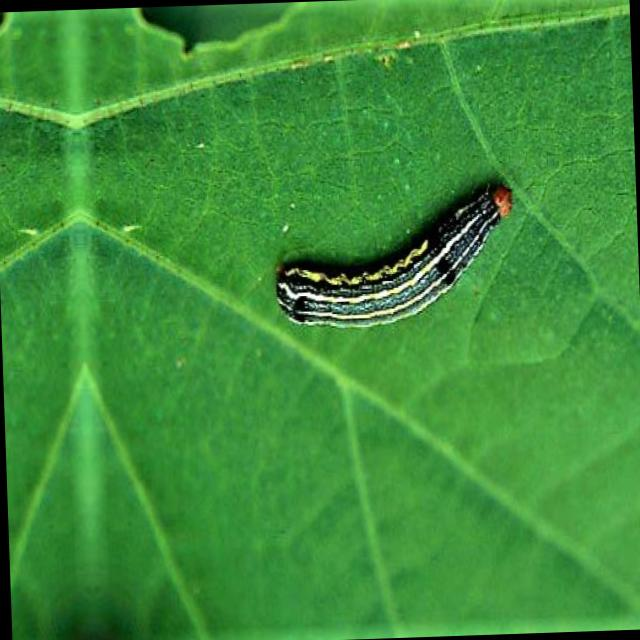Armyworm: (272, 161, 535, 402)
